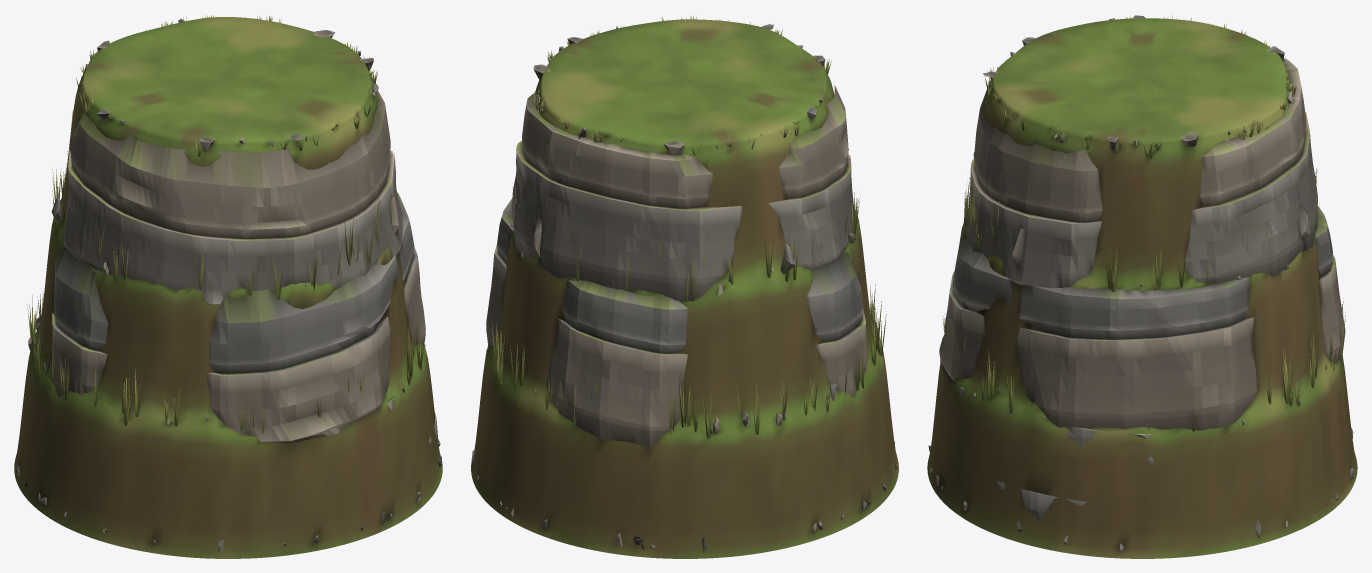
The model's file is hill.glb.
3 renders of one model, left to right at view 1: azimuth 30°, elevation 25°; view 2: azimuth 150°, elevation 25°; view 3: azimuth 270°, elevation 25°, orthographic.
Parts seen in each view (by area): view 1: hill; view 2: hill; view 3: hill.
Part boxes in pixels (x1,y1,x2,y2): hill: (14,15,442,558); hill: (471,15,898,558); hill: (927,15,1357,558).
Size of the model in its own units: 1 by 1 by 1.
